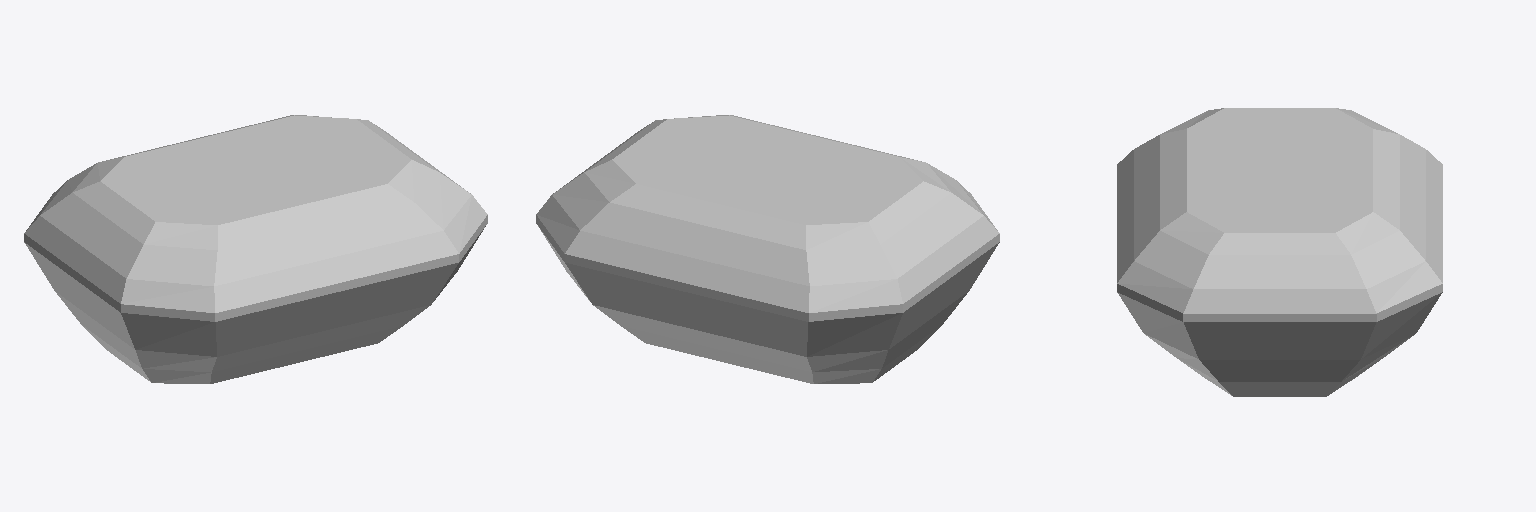
File: emerald.obj
3 views of the same model, side by side, from view 1: azimuth 30°, elevation 25°; view 2: azimuth 150°, elevation 25°; view 3: azimuth 270°, elevation 25° (orthographic).
Visible parts, largest first — view 1: pCube1; view 2: pCube1; view 3: pCube1.
Part boxes in pixels (x1,y1,x2,y2): pCube1: (24, 115, 487, 383); pCube1: (536, 115, 999, 383); pCube1: (1117, 108, 1442, 396).
Size of the model in its own units: 219 by 97.78 by 169.